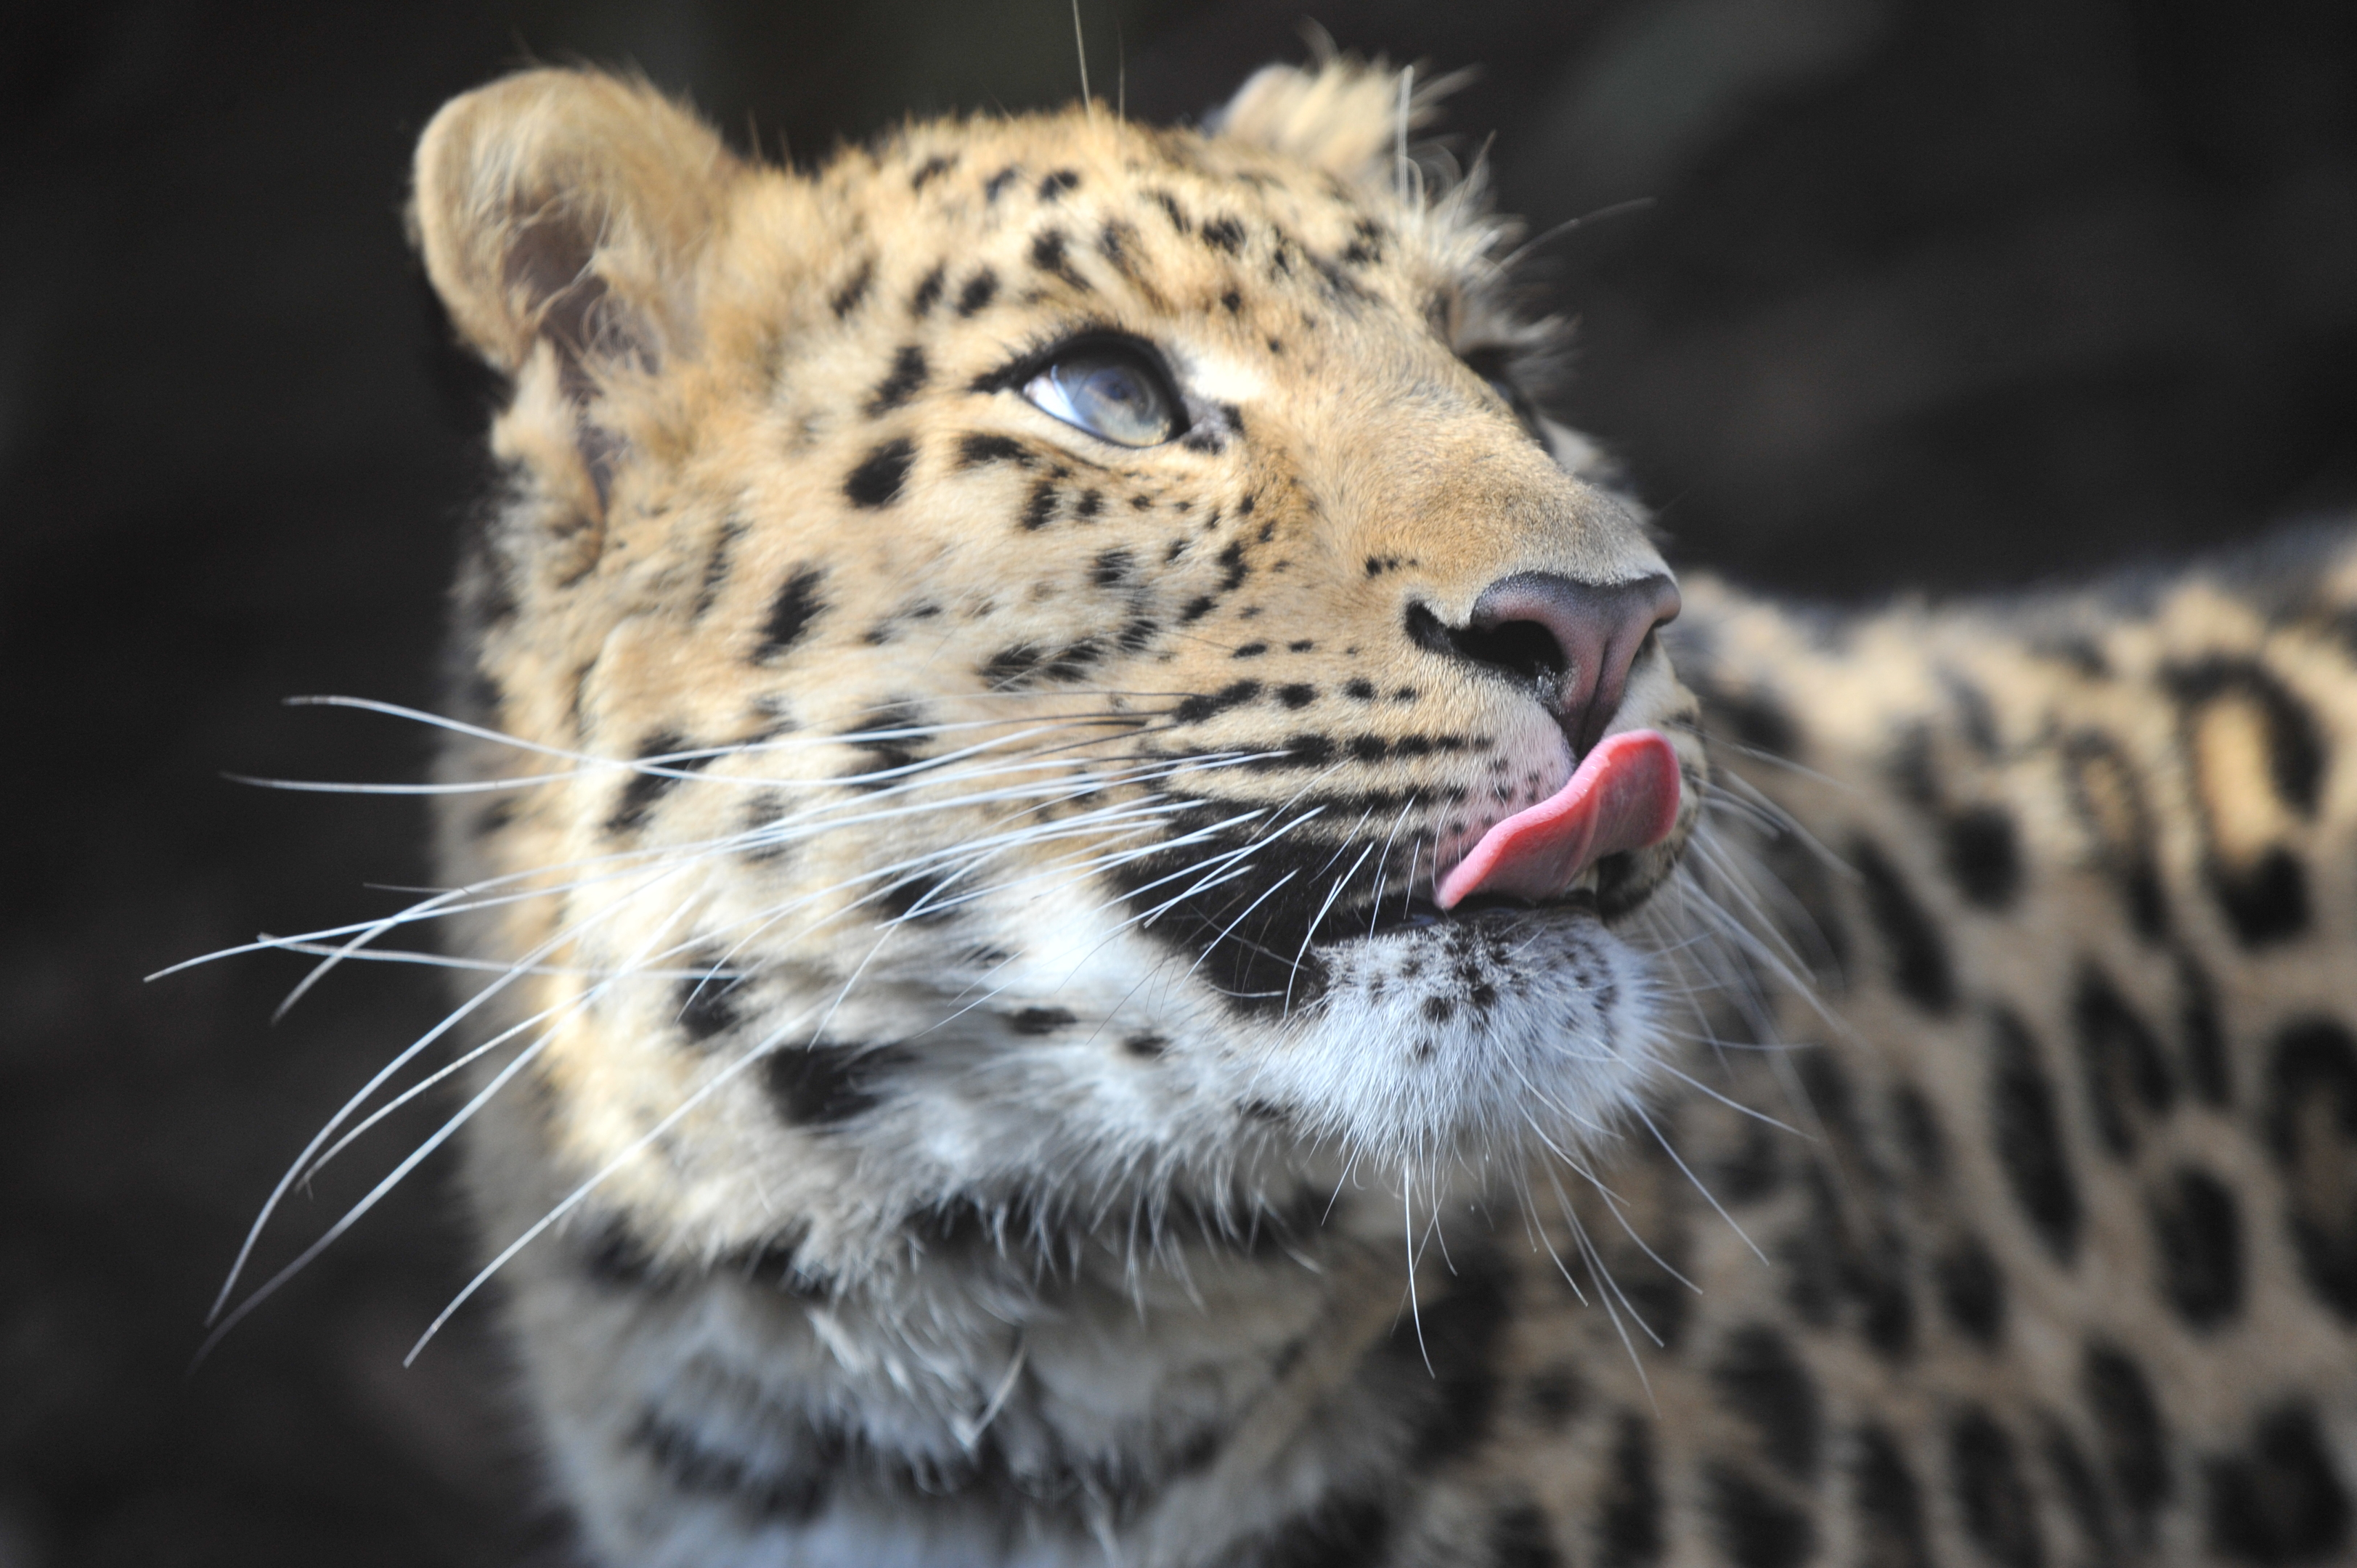amur_leopard: (371, 9, 1759, 1260)
